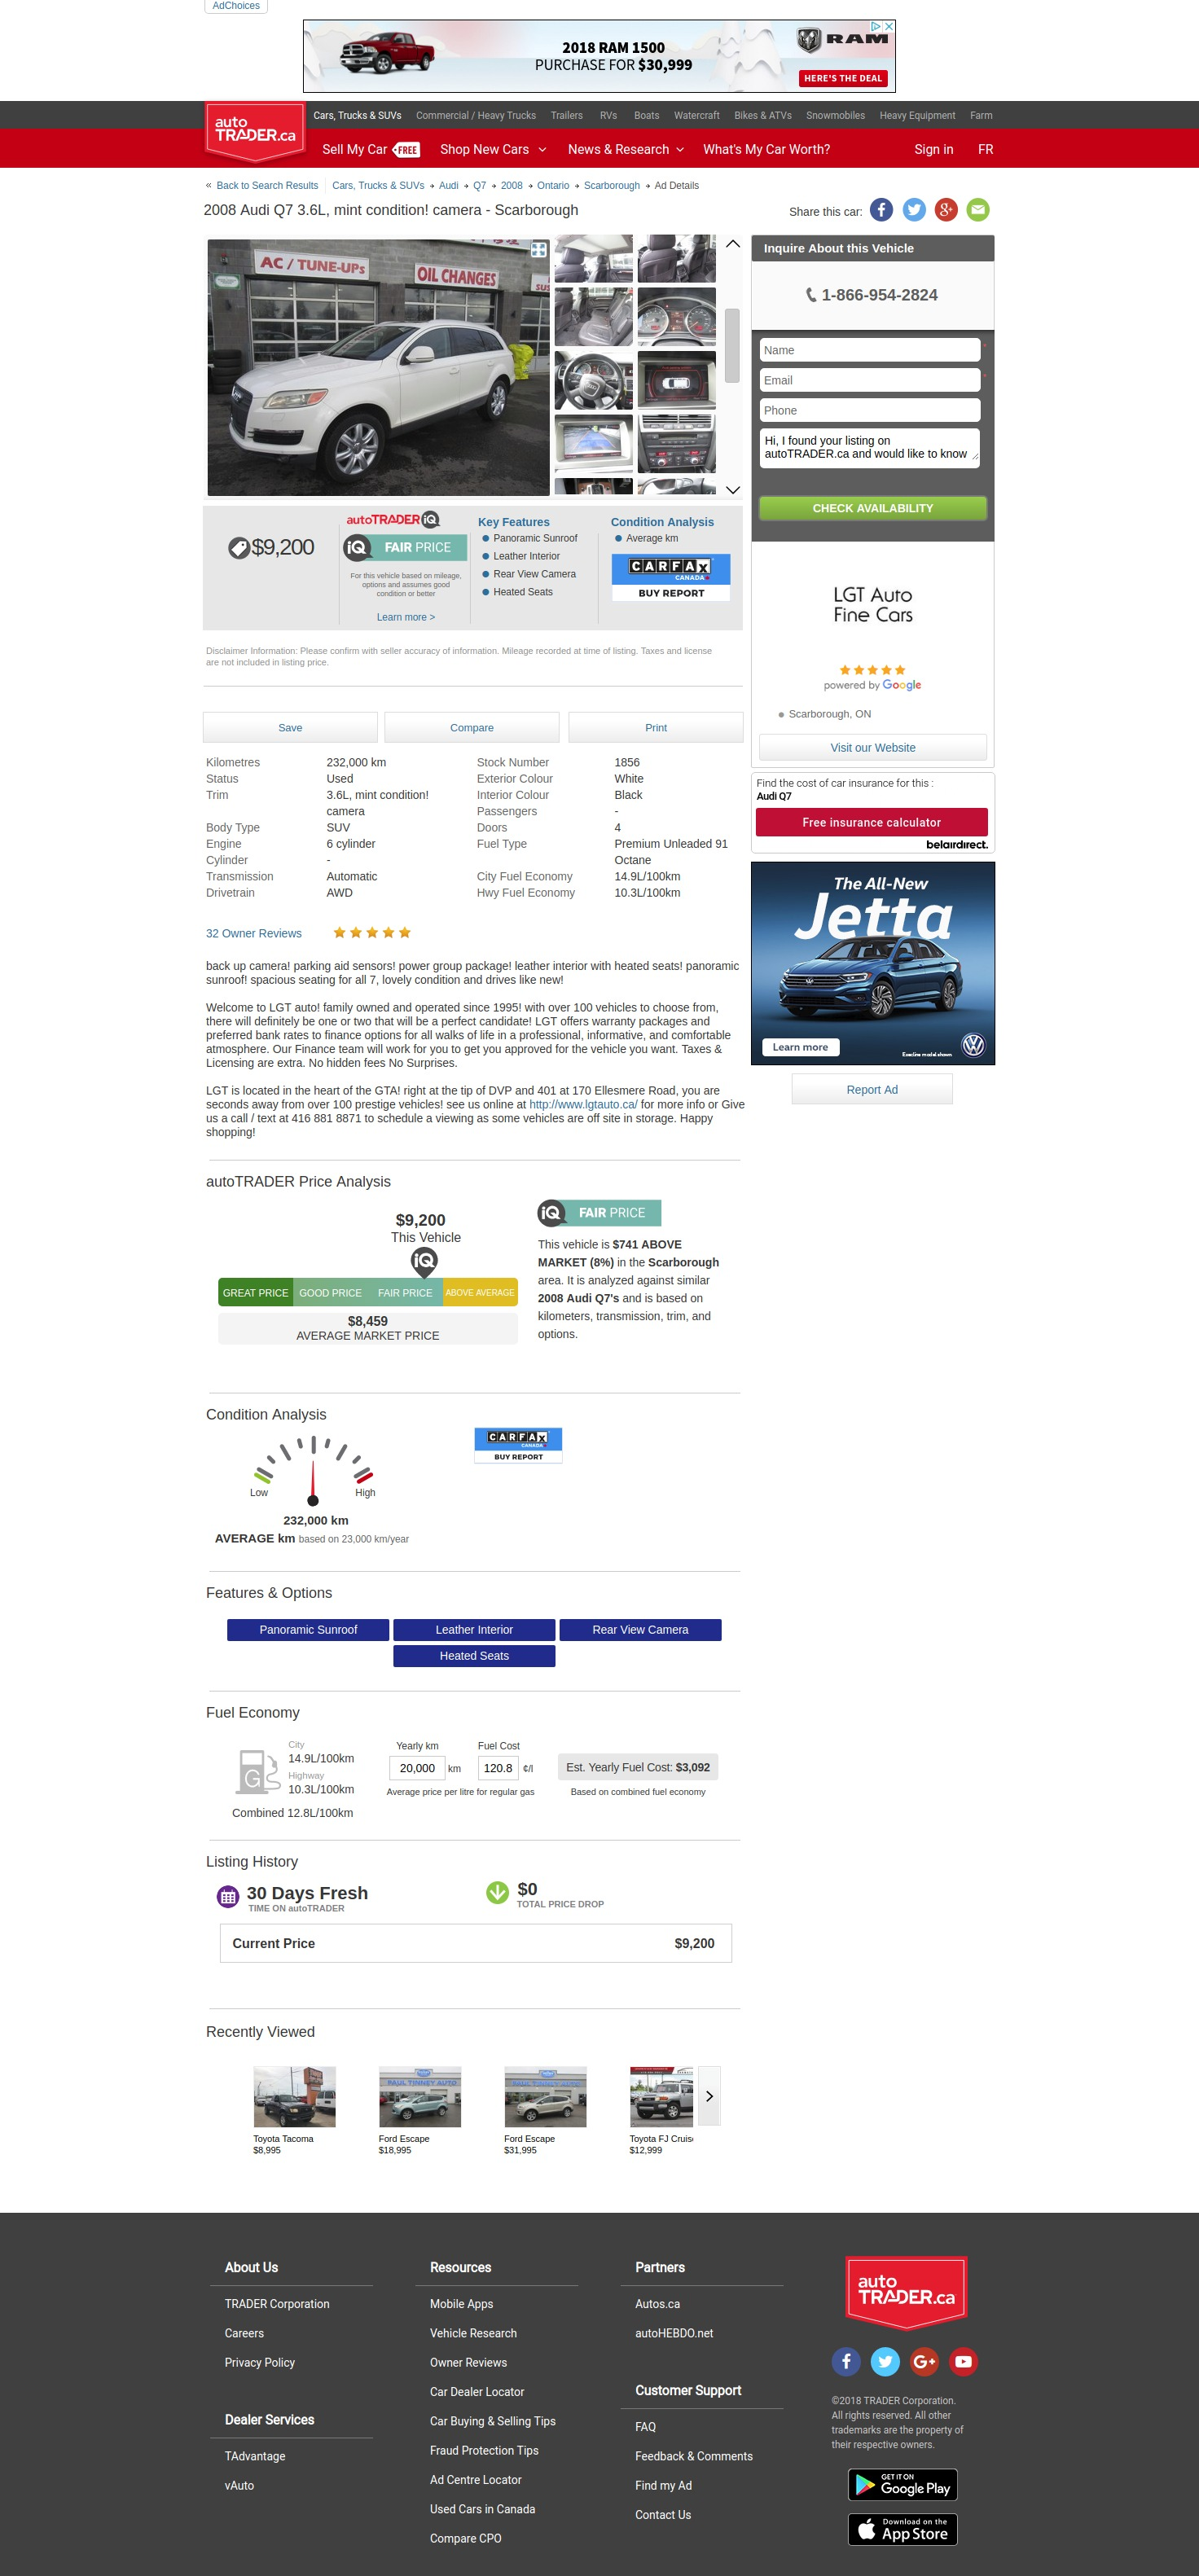car: (723, 485, 742, 496)
